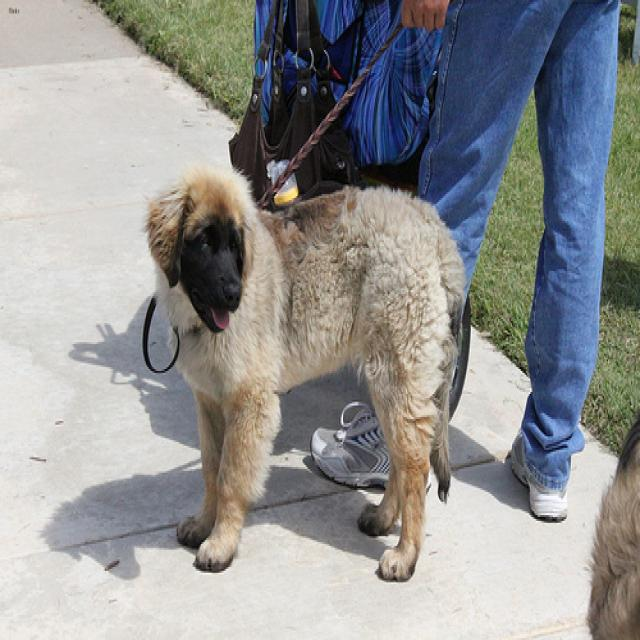dog-leonberger: (142, 154, 476, 592)
